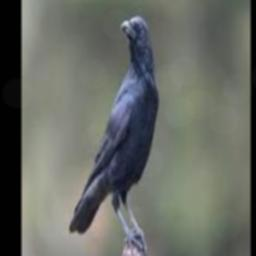Crow: (68, 14, 159, 240)
